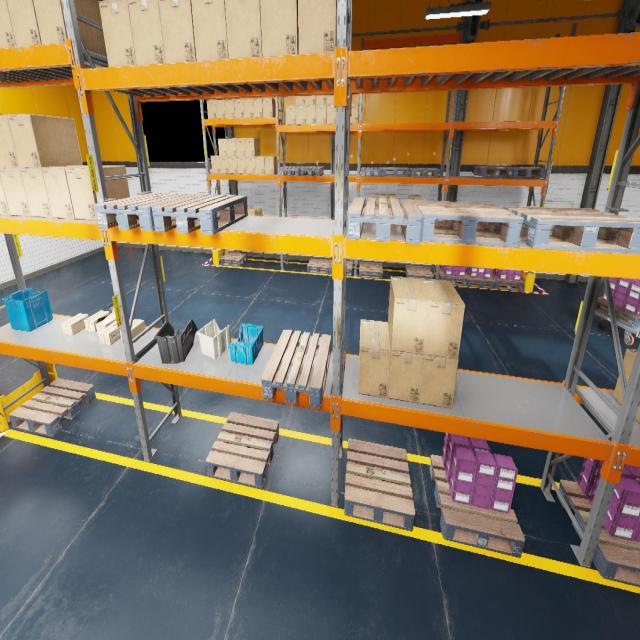box: (33, 0, 107, 57), (7, 114, 82, 168), (420, 278, 465, 358), (65, 165, 130, 220), (388, 276, 429, 354), (388, 330, 424, 403), (358, 320, 391, 398), (98, 0, 136, 66), (42, 165, 88, 219), (128, 0, 165, 65), (158, 0, 196, 63), (191, 0, 228, 61), (259, 0, 298, 56), (225, 0, 262, 59), (298, 0, 337, 54), (420, 355, 458, 408), (613, 349, 640, 423), (6, 0, 42, 46), (20, 168, 52, 218), (0, 167, 31, 216), (0, 114, 19, 167), (0, 0, 16, 48), (95, 306, 116, 335), (98, 320, 121, 345), (62, 313, 88, 335), (120, 319, 145, 341), (84, 310, 109, 332), (0, 175, 10, 215), (244, 138, 260, 156), (262, 98, 276, 117), (264, 156, 278, 174), (224, 99, 235, 118), (243, 98, 253, 118), (316, 104, 326, 124), (326, 104, 336, 124), (255, 156, 266, 174), (253, 99, 263, 118), (234, 99, 244, 118), (306, 105, 316, 124), (296, 105, 306, 124), (286, 105, 296, 124), (228, 156, 238, 174), (219, 156, 229, 174), (216, 100, 226, 118), (206, 100, 216, 118), (350, 103, 359, 123), (218, 139, 228, 156), (246, 156, 255, 174), (237, 156, 246, 174), (236, 138, 245, 156), (227, 138, 236, 156), (385, 194, 396, 208), (211, 156, 220, 173), (375, 194, 386, 207), (248, 207, 262, 216), (316, 95, 326, 104), (296, 96, 306, 105), (408, 194, 422, 200), (306, 96, 316, 104), (326, 95, 334, 104)
pallets: (430, 454, 525, 558), (556, 479, 640, 587), (344, 438, 415, 531), (503, 206, 640, 253), (206, 412, 279, 489), (261, 330, 331, 408), (414, 200, 524, 247), (9, 378, 96, 437), (152, 193, 248, 234), (94, 192, 197, 230), (347, 198, 423, 244), (595, 296, 640, 328), (491, 273, 524, 291), (436, 268, 468, 286), (465, 272, 495, 288), (503, 167, 545, 177), (473, 166, 513, 176), (307, 258, 331, 274), (329, 260, 353, 276), (359, 263, 383, 279), (220, 252, 247, 266), (405, 266, 434, 279), (382, 167, 410, 177), (409, 168, 440, 177), (280, 167, 304, 176), (300, 167, 324, 176), (361, 167, 382, 177)
